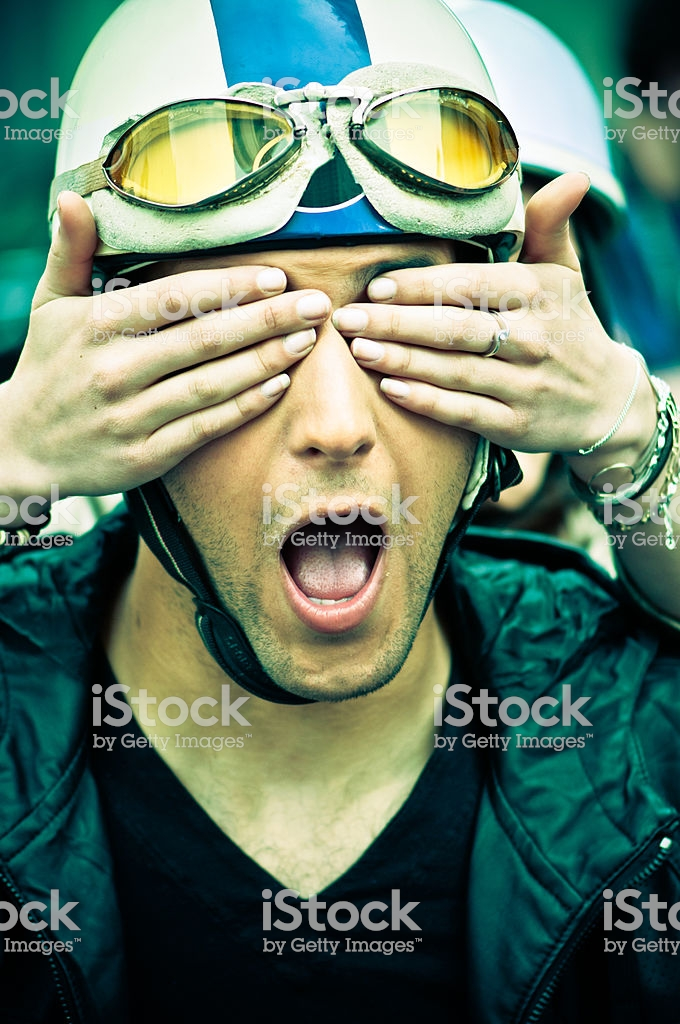helmet: (59, 12, 548, 270)
